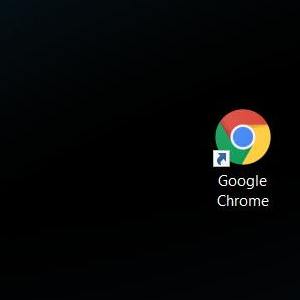chrome: (212, 109, 270, 167)
